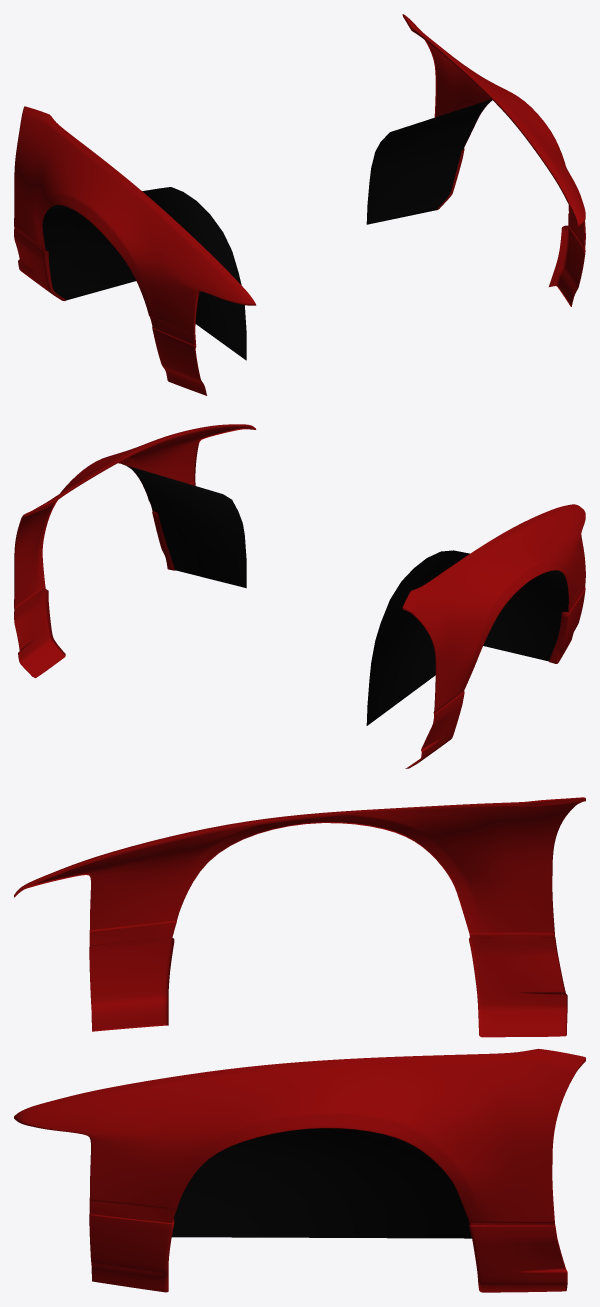
Rendered from frontfenders_ishikawabody.glb.
3 views of the same model, one above another, from view 1: azimuth 30°, elevation 25°; view 2: azimuth 150°, elevation 25°; view 3: azimuth 270°, elevation 25° (orthographic). The views are drawn at different scales.
Visible parts, largest first — view 1: Fenders, Undercarriage; view 2: Fenders, Undercarriage; view 3: Fenders, Undercarriage.
Boxes of the visible parts, bbox=[...] form: Fenders: bbox=[14, 14, 585, 395]; Undercarriage: bbox=[42, 99, 491, 360]; Fenders: bbox=[14, 424, 585, 768]; Undercarriage: bbox=[123, 464, 568, 725]; Fenders: bbox=[14, 797, 585, 1292]; Undercarriage: bbox=[172, 1128, 471, 1238].
Size of the model in its own units: 1.79 by 0.6524 by 1.41.
